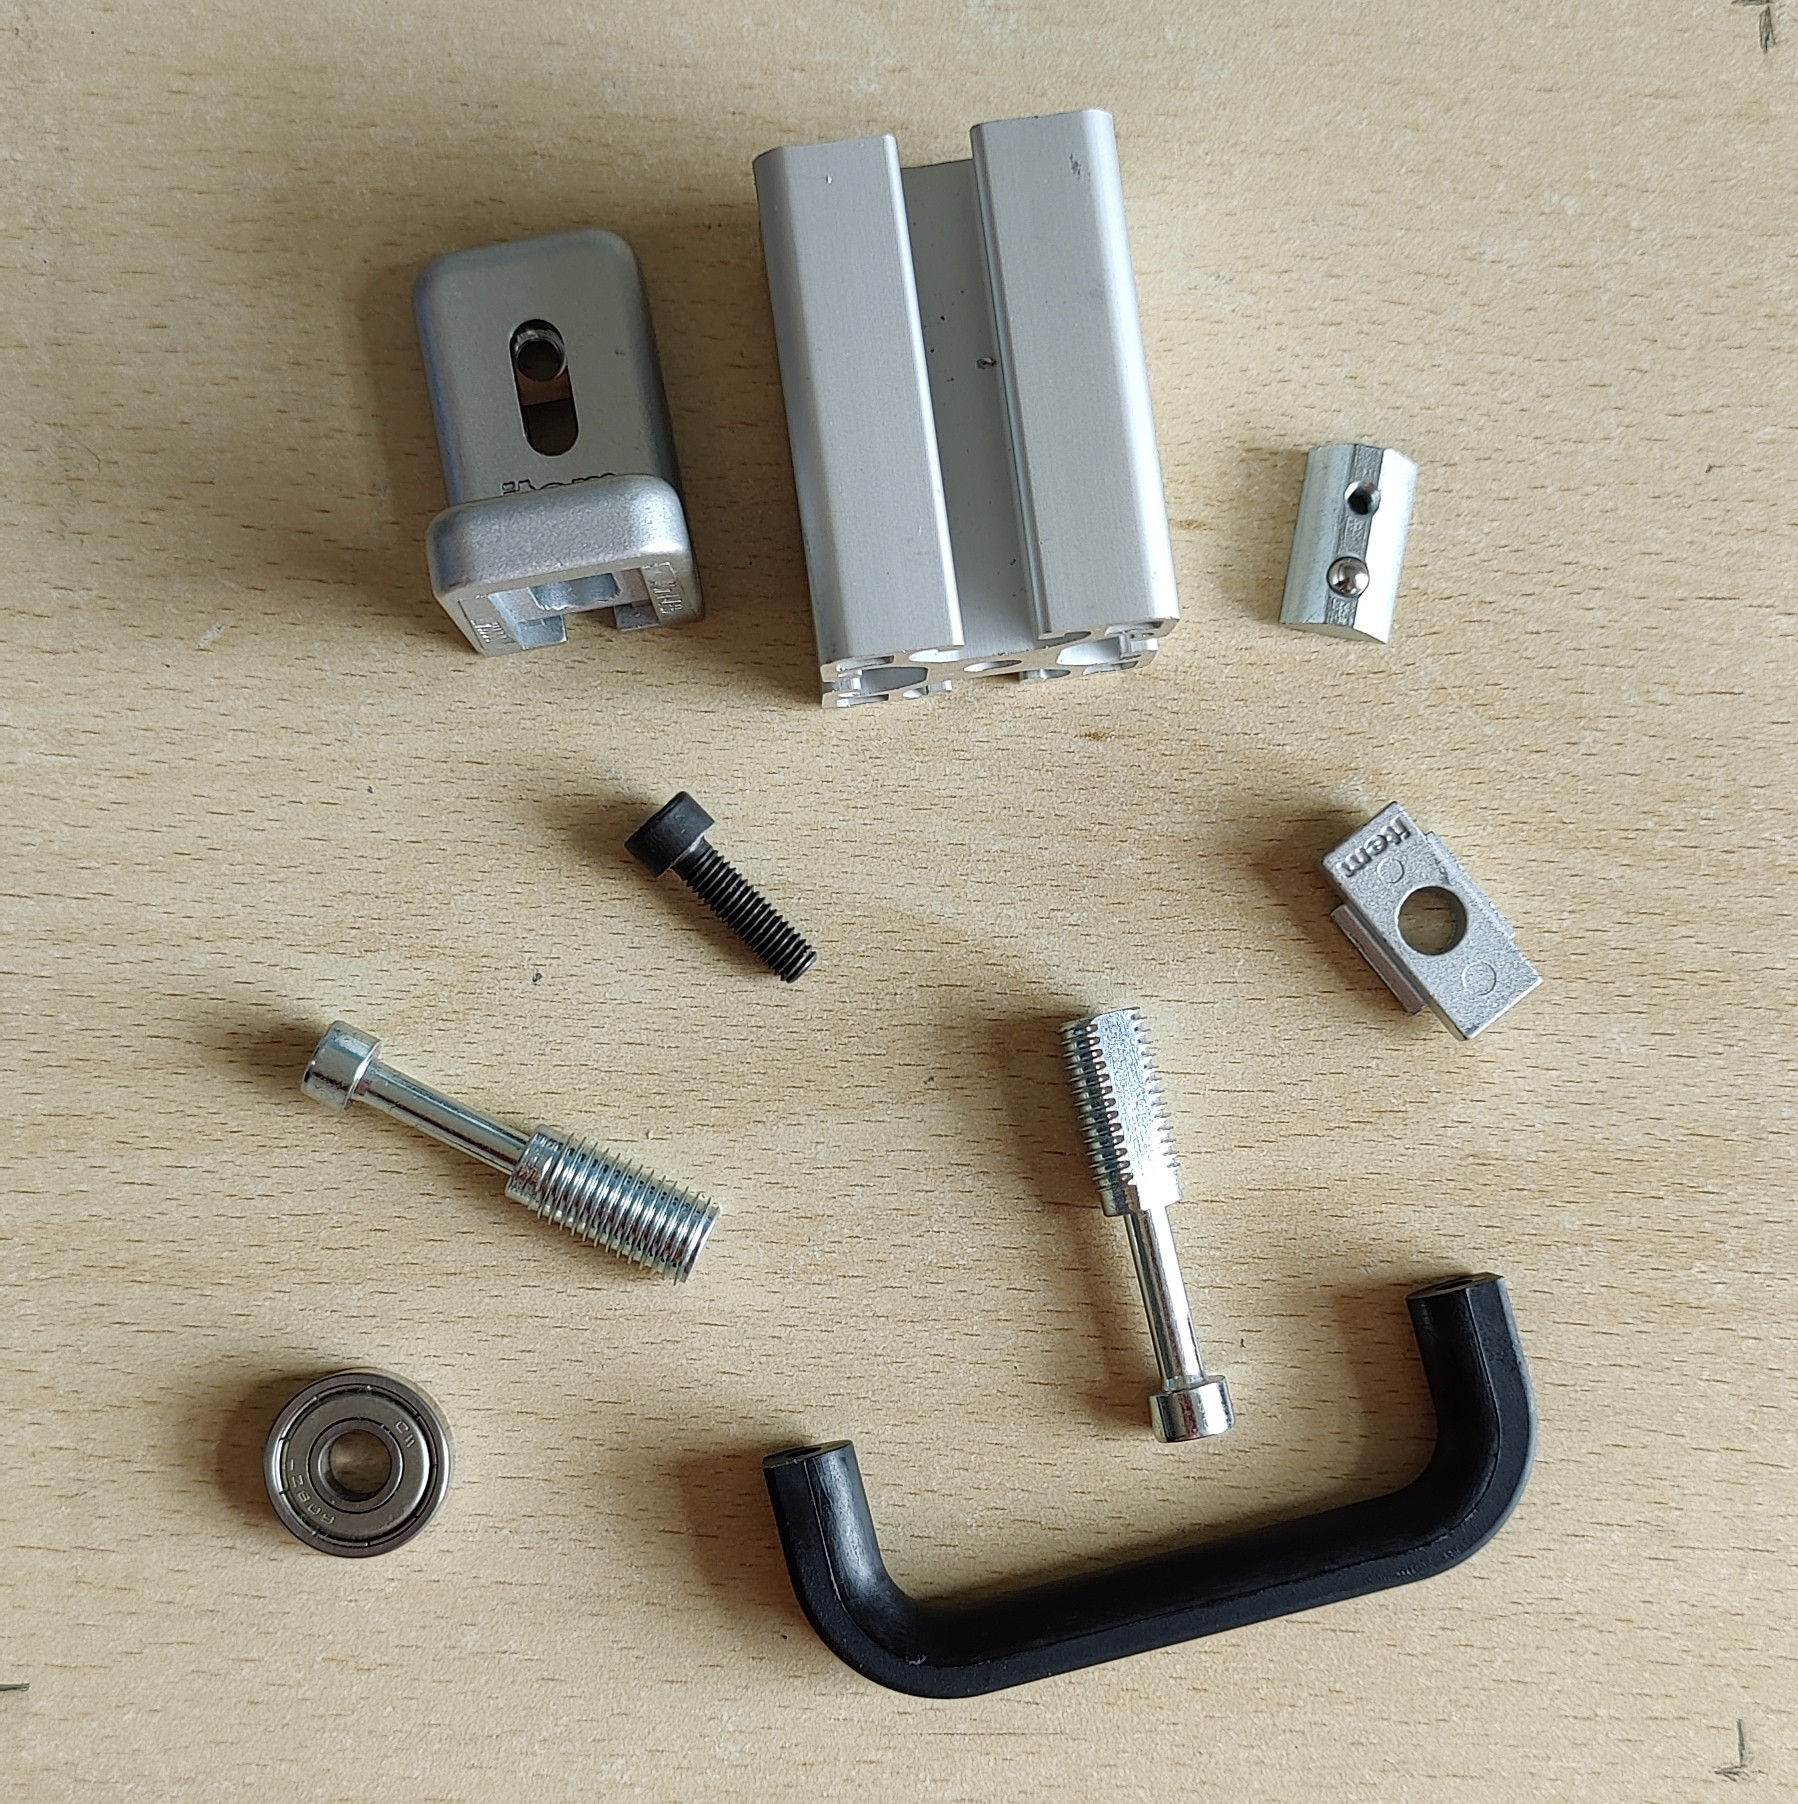Aluminium Extension: (751, 104, 1184, 713)
Ball Bearing: (259, 1366, 456, 1560)
Multiwinkel: (407, 225, 710, 660)
Pull Handle: (759, 1271, 1536, 1700)
Shoulder Socket Head Cap Screw: (298, 1017, 723, 1289), (1055, 1004, 1240, 1445)
Socket Head Cap Screw: (621, 788, 822, 988)
T Nut Square: (1312, 797, 1548, 1045)
T Spring Nut: (1278, 436, 1419, 645)
